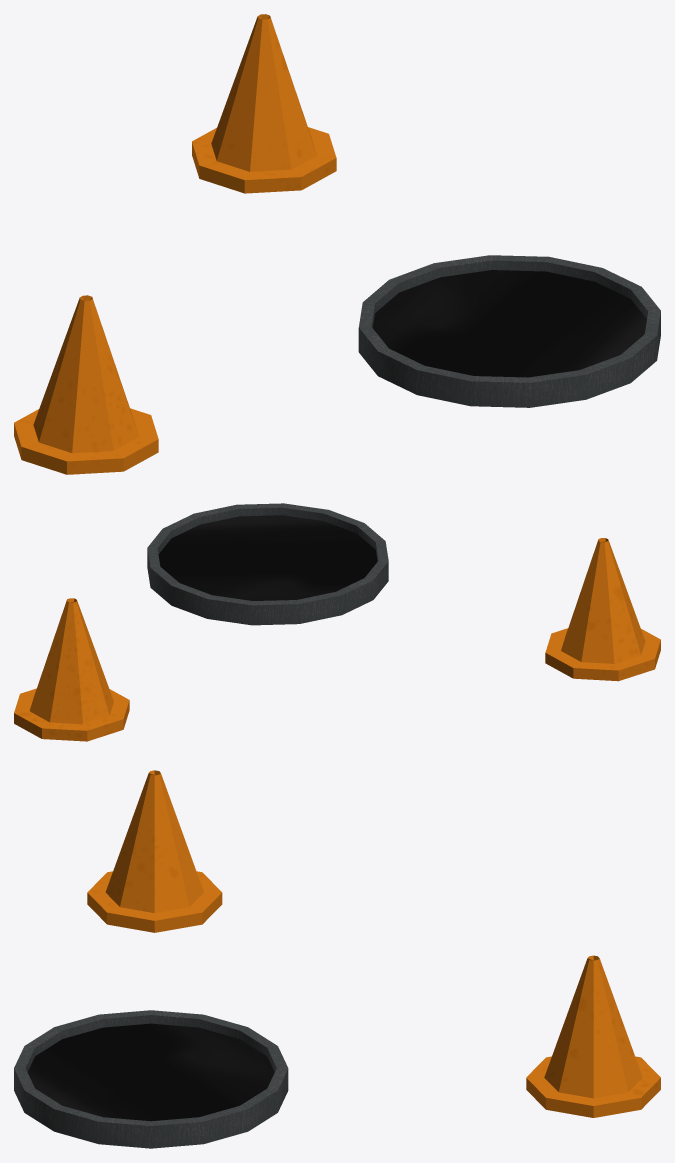
File: Alcantarilla_conos.fbx
3 renders of one model, top to bottom at view 1: azimuth 30°, elevation 25°; view 2: azimuth 150°, elevation 25°; view 3: azimuth 270°, elevation 25°, orthographic. The views are drawn at different scales.
Visible parts, largest first — view 1: conos_alcantarilla; view 2: conos_alcantarilla; view 3: conos_alcantarilla.
Boxes of the visible parts, x1=… form: conos_alcantarilla: x1=14, y1=14, x2=660, y2=474; conos_alcantarilla: x1=14, y1=503, x2=660, y2=741; conos_alcantarilla: x1=14, y1=770, x2=660, y2=1148.
Size of the model in its own units: 253 by 57.6 by 255.
